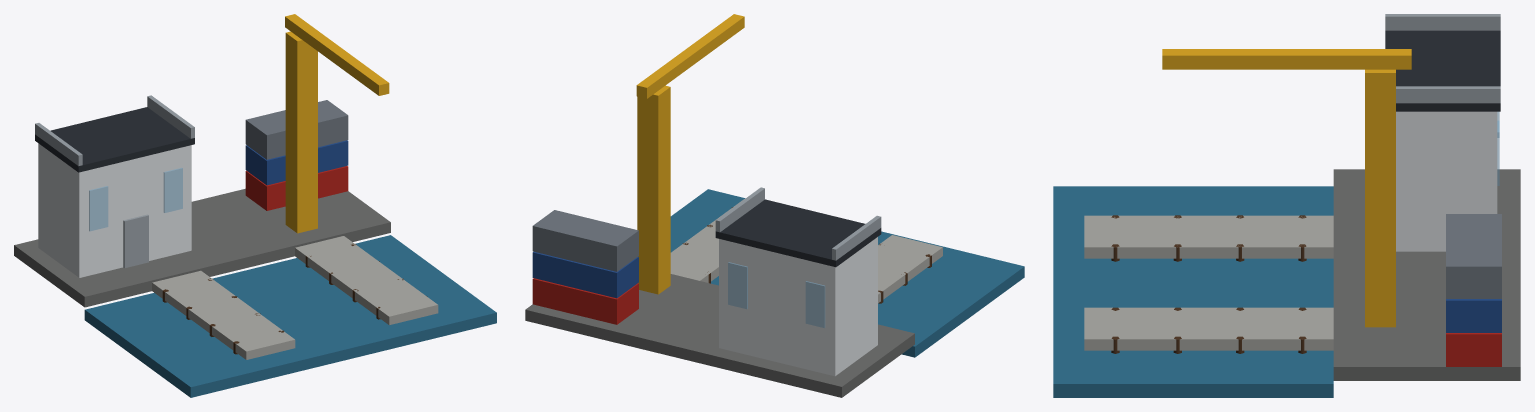
The model's file is bld_special_port_a08.glb.
3 renders of one model, left to right at view 1: azimuth 30°, elevation 25°; view 2: azimuth 150°, elevation 25°; view 3: azimuth 270°, elevation 25°, orthographic. The views are drawn at different scales.
Visible parts, largest first — view 1: body, crane; view 2: body, crane; view 3: body, crane.
Part boxes in pixels (left/top/right/bottom): body: left=14, top=95, right=496, bottom=397; crane: left=285, top=14, right=389, bottom=233; body: left=525, top=187, right=1024, bottom=397; crane: left=636, top=14, right=744, bottom=294; body: left=1053, top=14, right=1520, bottom=397; crane: left=1162, top=49, right=1411, bottom=327.
Size of what is drawn, in the model's own units: 15 by 10.9 by 15.
